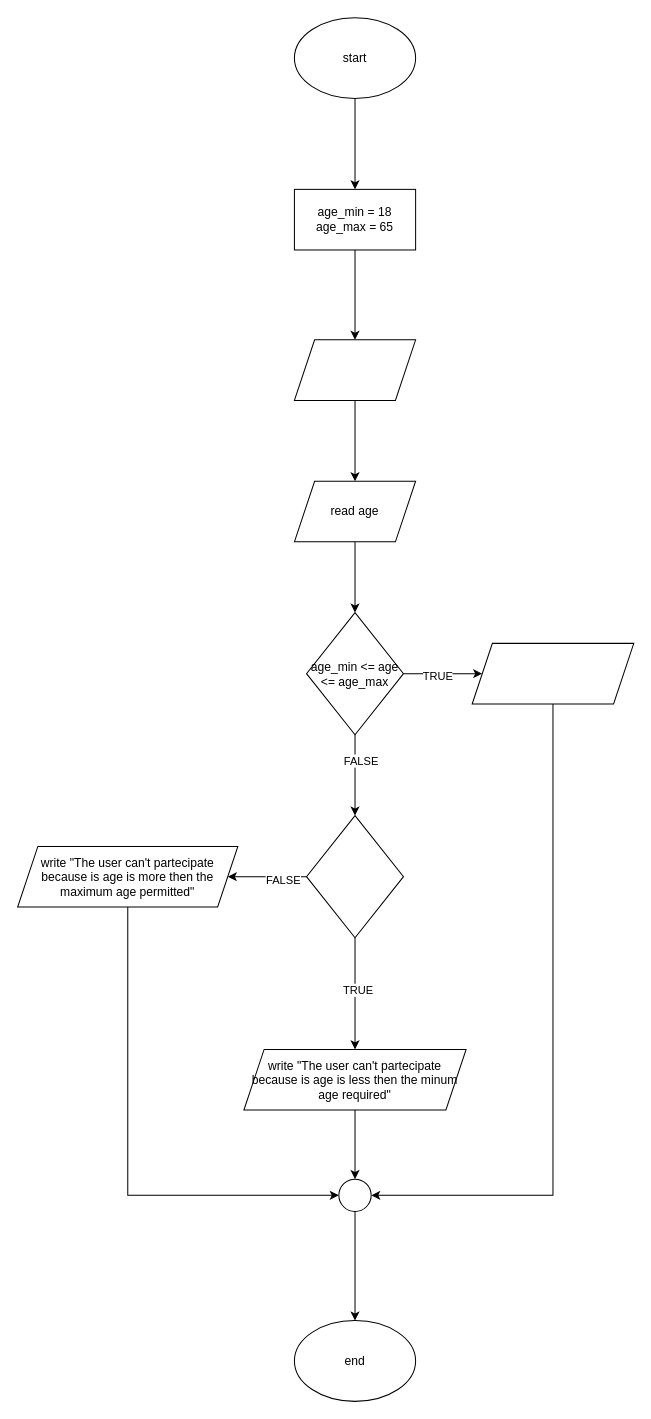
The diagram is 651 pixels wide and 1419 high, and some of its shapes have lost their labels. Here are the shapes that lost their labels. From the top down, the box of each, then its label:
(293, 339, 416, 400): write "Insert your age"
(471, 642, 634, 704): write "The user can partecipate to the activity "
(306, 815, 403, 938): age < age_min
